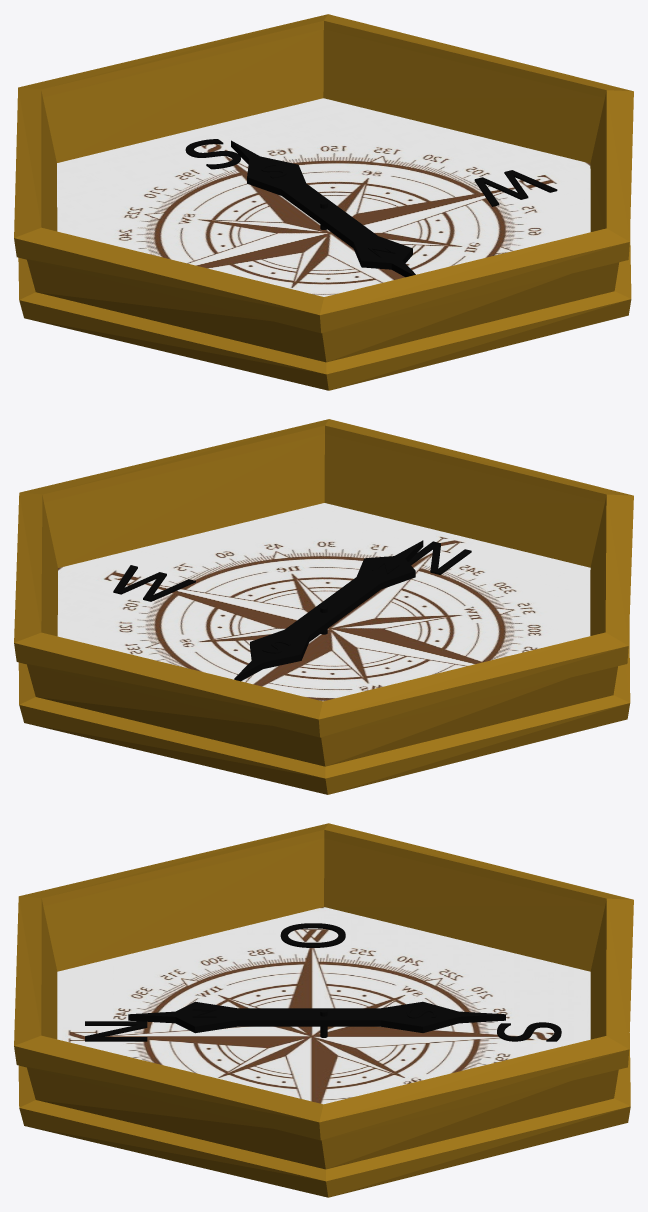
The model's file is kompass_04.01.2017.fbx.
The picture shows the model from 3 angles, top to bottom: view 1: azimuth 30°, elevation 25°; view 2: azimuth 150°, elevation 25°; view 3: azimuth 270°, elevation 25°; orthographic projection.
Visible parts, largest first — view 1: Extrudieren_1, Nadel, Deckfläche_2, Beschriftung; view 2: Extrudieren_1, Nadel, Deckfläche_2; view 3: Extrudieren_1, Nadel, Deckfläche_2, Beschriftung.
Part boxes in pixels (x1=…): Extrudieren_1: x1=14, y1=14, x2=633, y2=390; Nadel: x1=231, y1=140, x2=415, y2=277; Deckfläche_2: x1=185, y1=139, x2=556, y2=205; Beschriftung: x1=185, y1=142, x2=557, y2=206; Extrudieren_1: x1=14, y1=419, x2=633, y2=794; Nadel: x1=234, y1=540, x2=423, y2=681; Deckfläche_2: x1=113, y1=541, x2=471, y2=600; Extrudieren_1: x1=14, y1=823, x2=633, y2=1197; Nadel: x1=128, y1=1001, x2=505, y2=1033; Deckfläche_2: x1=85, y1=923, x2=561, y2=1040; Beschriftung: x1=85, y1=926, x2=561, y2=1041.
Size of the model in its own units: 165 by 21.59 by 145.
Materials: 4 (1 with a texture image).
